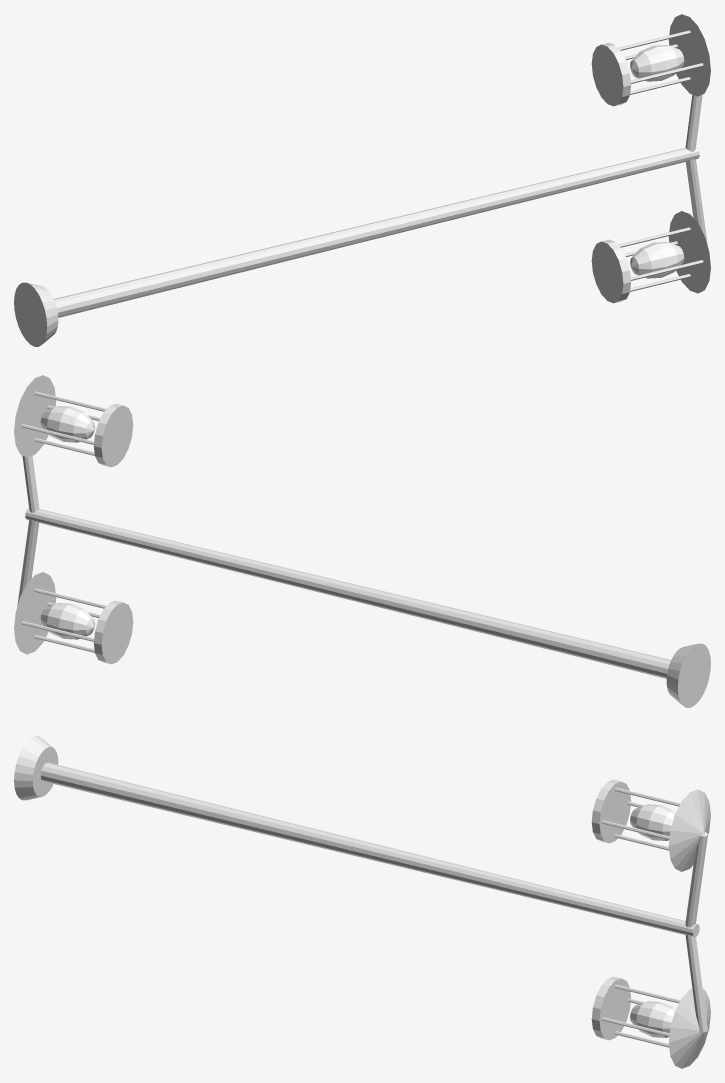
The model's file is boulevardlanternstreetlight.obj.
3 renders of one model, top to bottom at view 1: azimuth 30°, elevation 25°; view 2: azimuth 150°, elevation 25°; view 3: azimuth 330°, elevation 25°, orthographic.
Parts seen in each view (by area): view 1: Metal, Head0Metal, Head1Metal, Base, Light1, Light0; view 2: Metal, Head0Metal, Head1Metal, Base, Light1, Light0; view 3: Metal, Head1Metal, Head0Metal, Base, Light0, Light1.
Boxes of the visible parts, x1,y1,x2,y2 form: Metal: (54, 30, 703, 317); Head0Metal: (668, 159, 710, 293); Head1Metal: (668, 14, 710, 151); Base: (14, 282, 58, 346); Light1: (630, 45, 684, 81); Light0: (630, 242, 684, 278); Metal: (21, 391, 670, 678); Head0Metal: (14, 520, 56, 654); Head1Metal: (14, 375, 56, 512); Base: (666, 643, 710, 707); Light1: (40, 406, 94, 442); Light0: (40, 603, 94, 639); Metal: (40, 762, 697, 1047); Head1Metal: (668, 789, 710, 935); Head0Metal: (668, 925, 710, 1068); Base: (14, 736, 58, 800); Light0: (630, 1001, 675, 1037); Light1: (630, 804, 675, 840).
Size of the model in its own units: 5.18 by 2 by 0.56.
